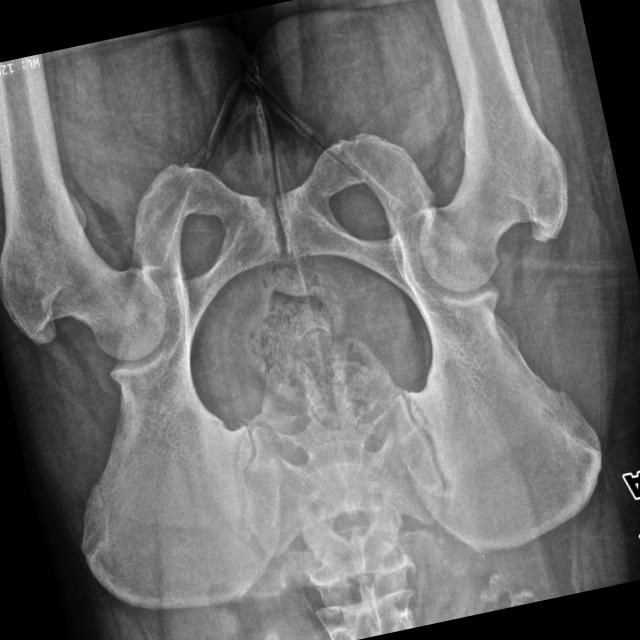normal-left: (0, 70, 164, 359)
normal-right: (418, 0, 567, 290)
